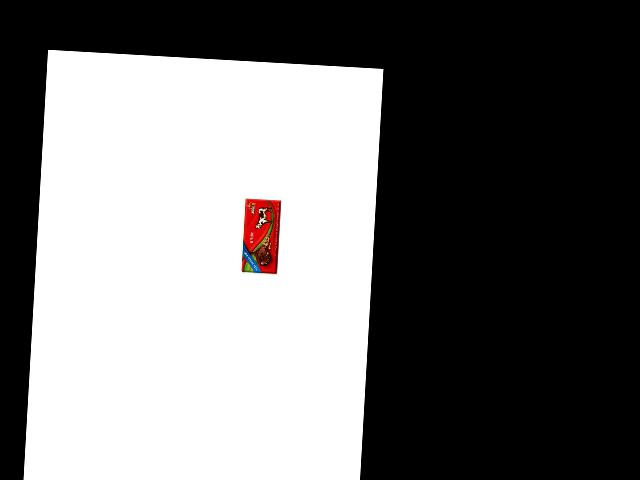chocolate: (241, 195, 280, 273)
